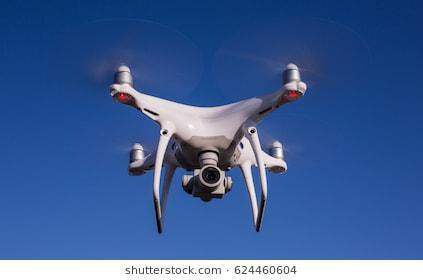drone: (108, 59, 309, 237)
